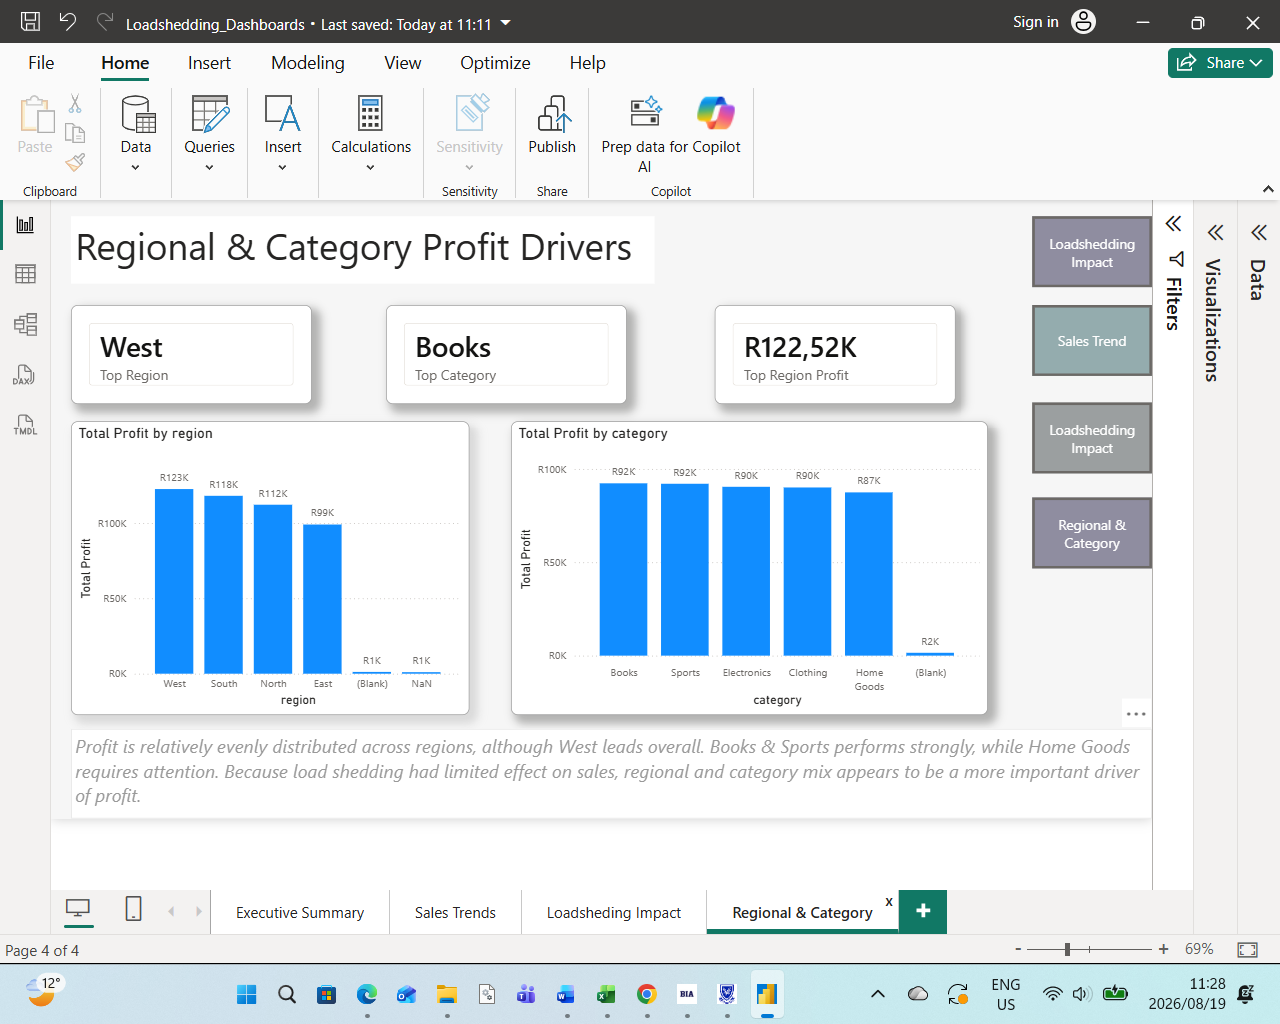

This screenshot's page, from the dashboard's own definition file:
{"tool":"powerbi","page":{"name":"Regional & Category","canvas":[1280,720],"ordinal":3},"visuals":[{"type":"actionButton","box":[1141.3,345.7,139.1,82.6],"z":2000},{"type":"actionButton","box":[1141.3,19.6,139.1,82.6],"z":3000},{"type":"actionButton","box":[1141.3,121.7,139.1,82.6],"z":4000},{"type":"actionButton","box":[1141.3,234.8,139.1,82.6],"z":5000},{"type":"textbox","box":[23.9,19.6,678.3,78.3],"z":6000},{"type":"cardVisual","fields":{"Data":["vw_dashboard_base.Top Region"]},"box":[23.9,121.7,280,115],"z":6001},{"type":"cardVisual","fields":{"Data":["vw_dashboard_base.Top Category"]},"box":[389.1,121.7,280,115],"z":6002},{"type":"cardVisual","fields":{"Data":["vw_dashboard_base.Top Region Profit"]},"box":[771.7,121.7,280,115],"z":6003},{"type":"clusteredColumnChart","fields":{"Y":["vw_dashboard_base.Total Profit"],"Category":["vw_dashboard_base.region"]},"box":[23.9,256.5,463,341.3],"z":6004},{"type":"clusteredColumnChart","fields":{"Y":["vw_dashboard_base.Total Profit"],"Category":["vw_dashboard_base.category"]},"box":[534.8,256.5,554.4,341.3],"z":6005},{"type":"textbox","box":[23.9,615.2,1256.5,104.3],"z":6006}]}

Visuals, with their boxes on the page's 1280x720 design canvas (x1, y1, x2, y2). These are canvas units, not pixel positions in the 1280x1024 screenshot, which may show the page scaled, cropped or inside an application window:
actionButton: box(1141, 346, 1280, 428)
actionButton: box(1141, 20, 1280, 102)
actionButton: box(1141, 122, 1280, 204)
actionButton: box(1141, 235, 1280, 317)
textbox: box(24, 20, 702, 98)
cardVisual - vw_dashboard_base.Top Region: box(24, 122, 304, 237)
cardVisual - vw_dashboard_base.Top Category: box(389, 122, 669, 237)
cardVisual - vw_dashboard_base.Top Region Profit: box(772, 122, 1052, 237)
clusteredColumnChart - vw_dashboard_base.Total Profit x vw_dashboard_base.region: box(24, 256, 487, 598)
clusteredColumnChart - vw_dashboard_base.Total Profit x vw_dashboard_base.category: box(535, 256, 1089, 598)
textbox: box(24, 615, 1280, 720)
